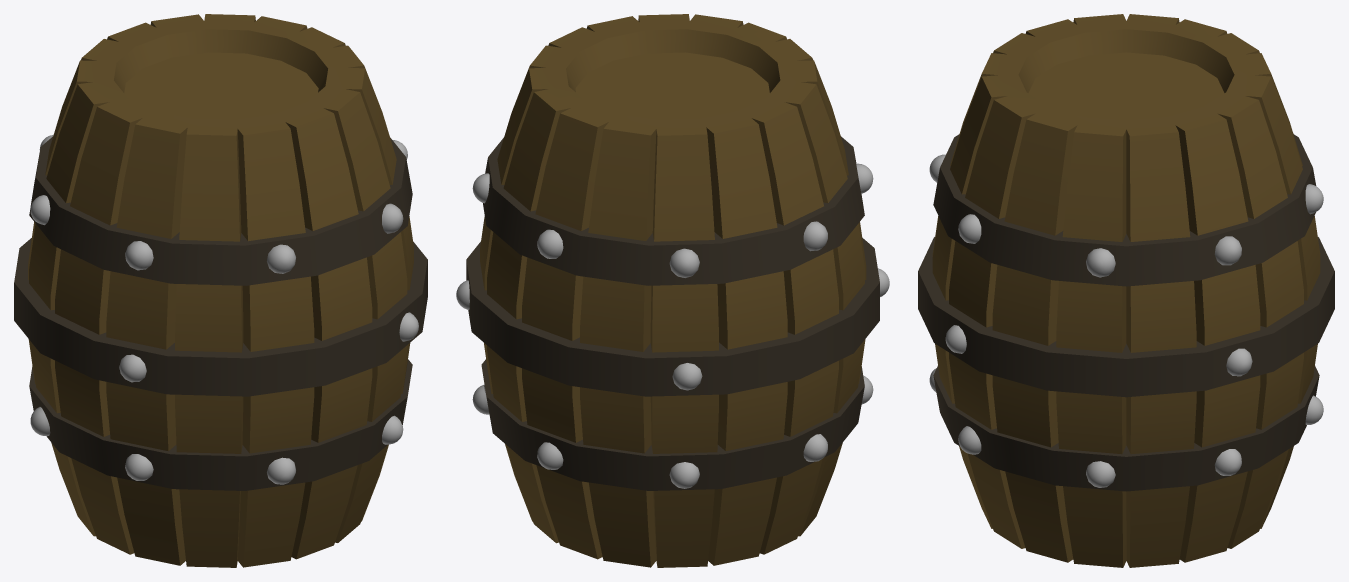
The model's file is Barrel.fbx.
3 views of the same model, side by side, from view 1: azimuth 30°, elevation 25°; view 2: azimuth 150°, elevation 25°; view 3: azimuth 270°, elevation 25° (orthographic).
Visible parts, largest first — view 1: pCylinder7; view 2: pCylinder7; view 3: pCylinder7.
Boxes of the visible parts, bbox=[...] form: pCylinder7: bbox=[14, 14, 427, 567]; pCylinder7: bbox=[456, 14, 889, 567]; pCylinder7: bbox=[918, 14, 1334, 567].
Bounding box in the file's own units: 150 × 172 × 150.
